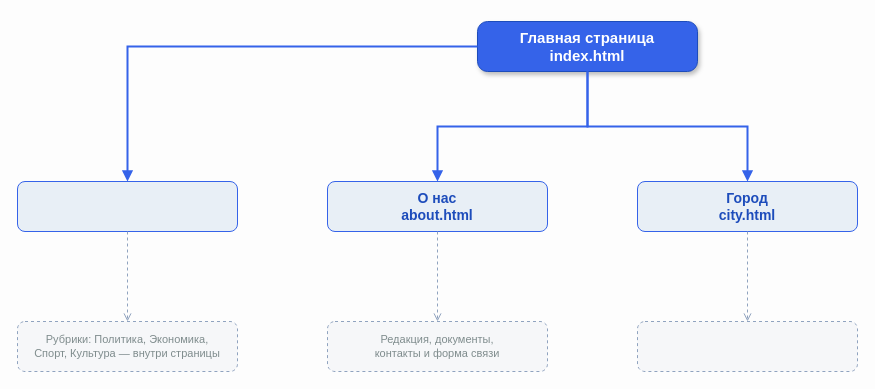
The diagram is 875 pixels wide and 389 high, and some of its shapes have lost their labels. Each missing label, with the centre of its shape:
"Афиша, погода, транспорт, справочник — внутри страницы" goes at (x=747, y=346).
"Новости news.html" goes at (x=127, y=206).
